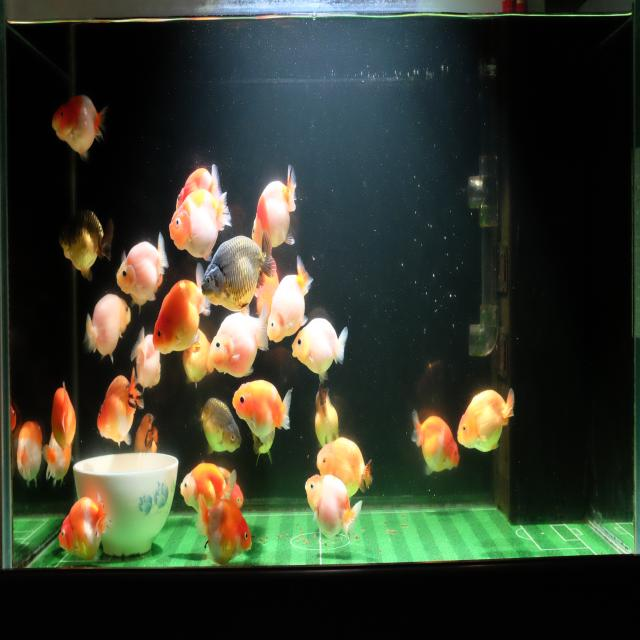Goldfish: (199, 228, 277, 317), (151, 260, 212, 356), (194, 488, 254, 568), (207, 302, 269, 379), (266, 252, 316, 346), (251, 159, 299, 256), (56, 205, 114, 285), (169, 187, 232, 260), (304, 471, 364, 546), (290, 312, 351, 385), (95, 365, 147, 449), (456, 383, 516, 455), (58, 492, 114, 566), (231, 376, 294, 441), (314, 432, 374, 500), (51, 92, 108, 162), (115, 230, 168, 303), (409, 405, 461, 479), (81, 291, 131, 367), (194, 392, 243, 460), (180, 463, 235, 523), (174, 161, 222, 213), (130, 320, 162, 393), (179, 321, 213, 389), (15, 417, 44, 494), (49, 382, 78, 458), (313, 378, 341, 452), (42, 429, 72, 493), (133, 408, 159, 463), (217, 467, 246, 509)
